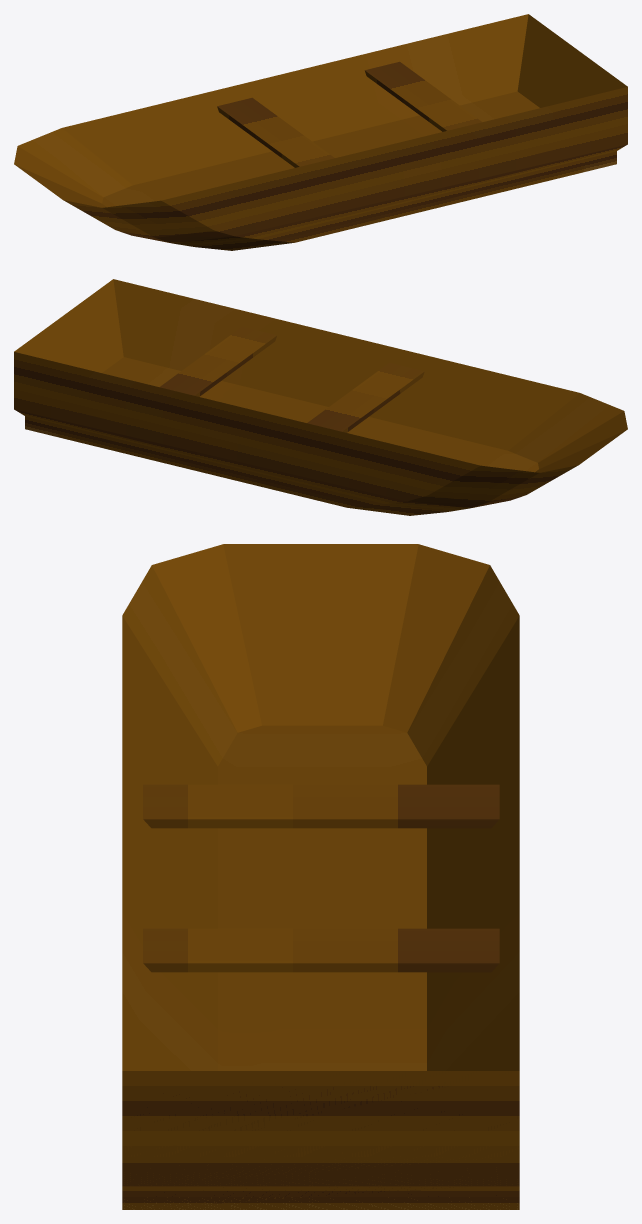
The model's file is Boat1.fbx.
3 views of the same model, one above another, from view 1: azimuth 30°, elevation 25°; view 2: azimuth 150°, elevation 25°; view 3: azimuth 270°, elevation 25° (orthographic). The views are drawn at different scales.
Visible parts, largest first — view 1: Plane; view 2: Plane; view 3: Plane.
Part boxes in pixels (x1,y1,x2,y2): Plane: [14, 14, 627, 250]; Plane: [14, 279, 627, 515]; Plane: [122, 544, 519, 1209].
Size of the model in its own units: 590 by 78.05 by 188.
1 material, 1 textured.
